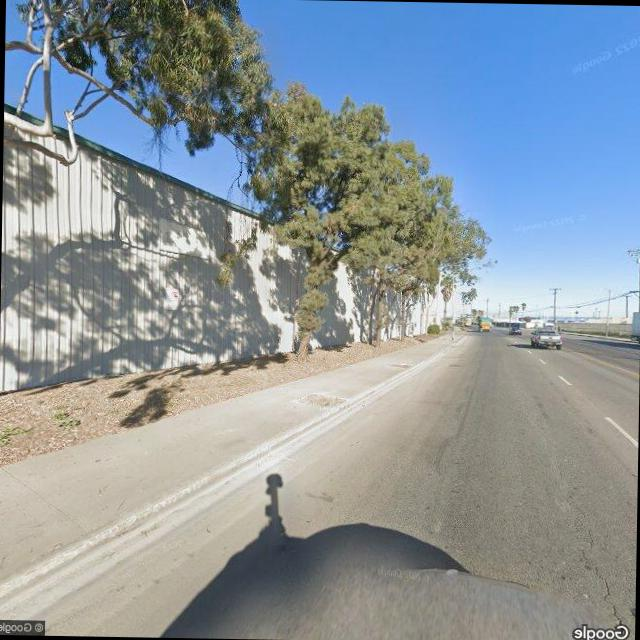crack: (560, 482, 632, 630)
